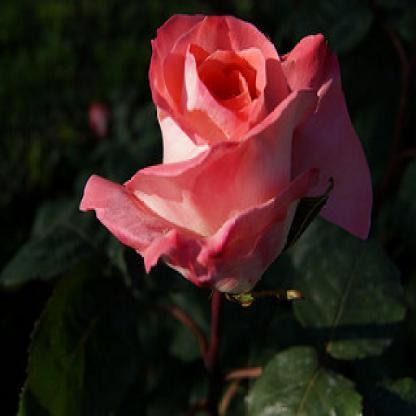ROSE-MAWAR: (76, 5, 378, 318)
